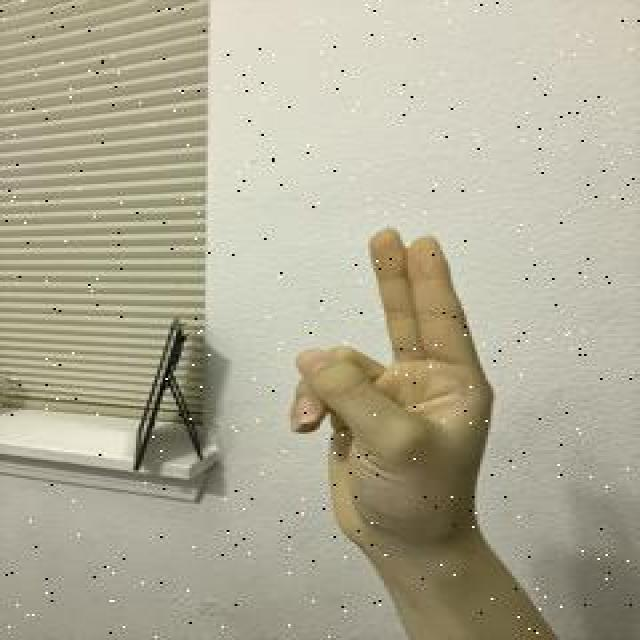U: (284, 220, 503, 558)
